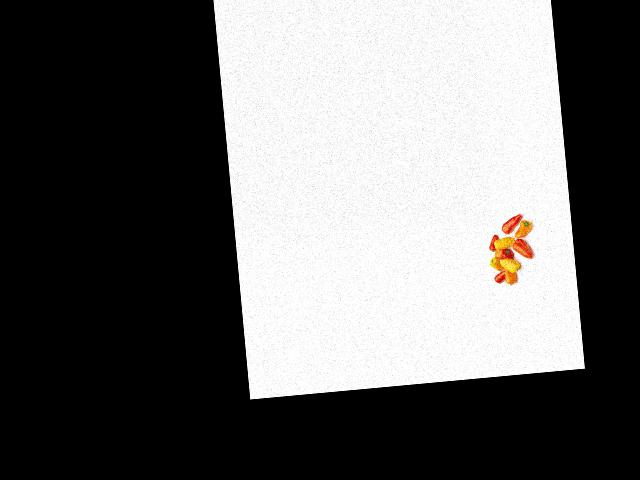bell_pepper: (487, 232, 498, 253)
